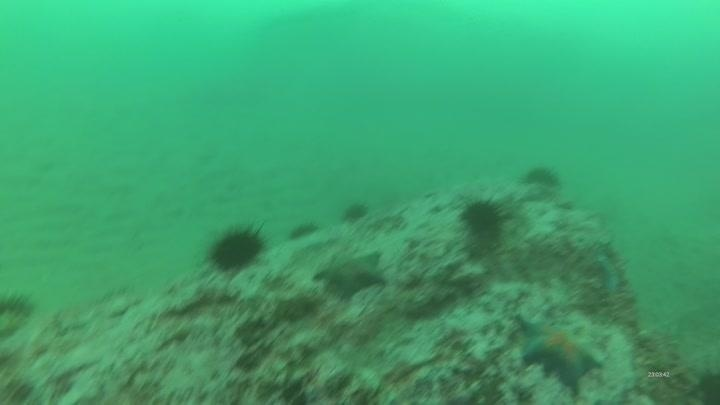echinus: (205, 221, 268, 274), (459, 195, 508, 241), (0, 288, 37, 322), (520, 163, 563, 191), (286, 218, 321, 244), (340, 199, 370, 225)
starfish: (514, 311, 607, 393), (314, 248, 388, 301), (589, 239, 630, 298), (52, 302, 94, 335)
